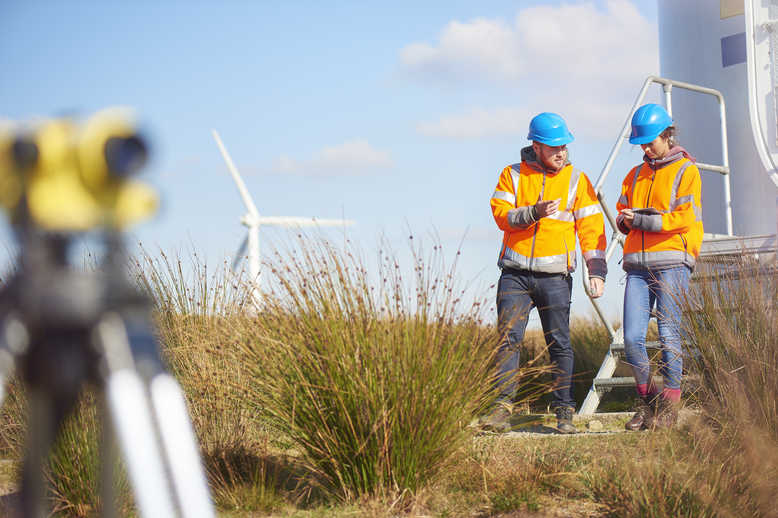epi: (483, 109, 608, 432), (615, 102, 701, 434)
